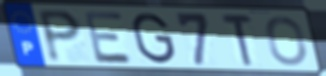7: (173, 10, 212, 68)
E: (82, 10, 136, 65)
G: (130, 12, 178, 66)
O: (264, 15, 310, 67)
P: (36, 8, 84, 65)
T: (219, 12, 256, 68)
